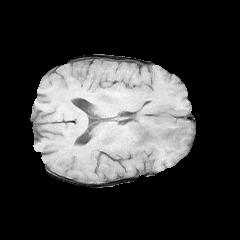glioma: (126, 105, 193, 149)
